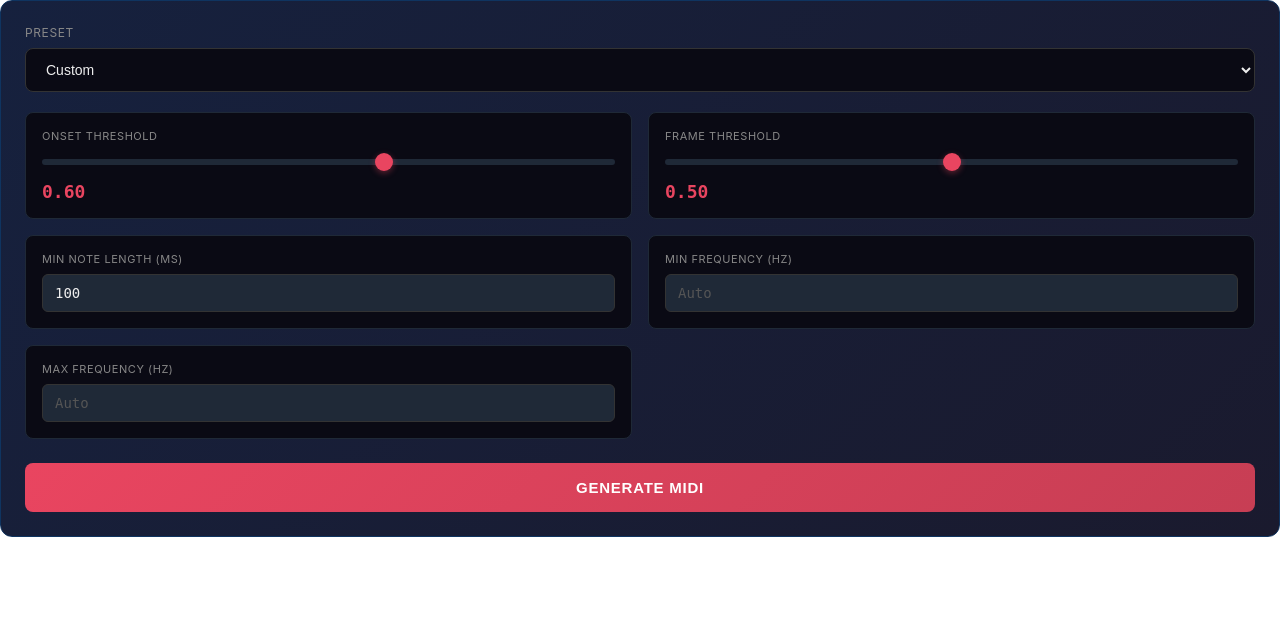
Test case: MIDIGenerator › should handle API errors
Click the button "Generate MIDI": (640, 488) [25,463,1255,512]
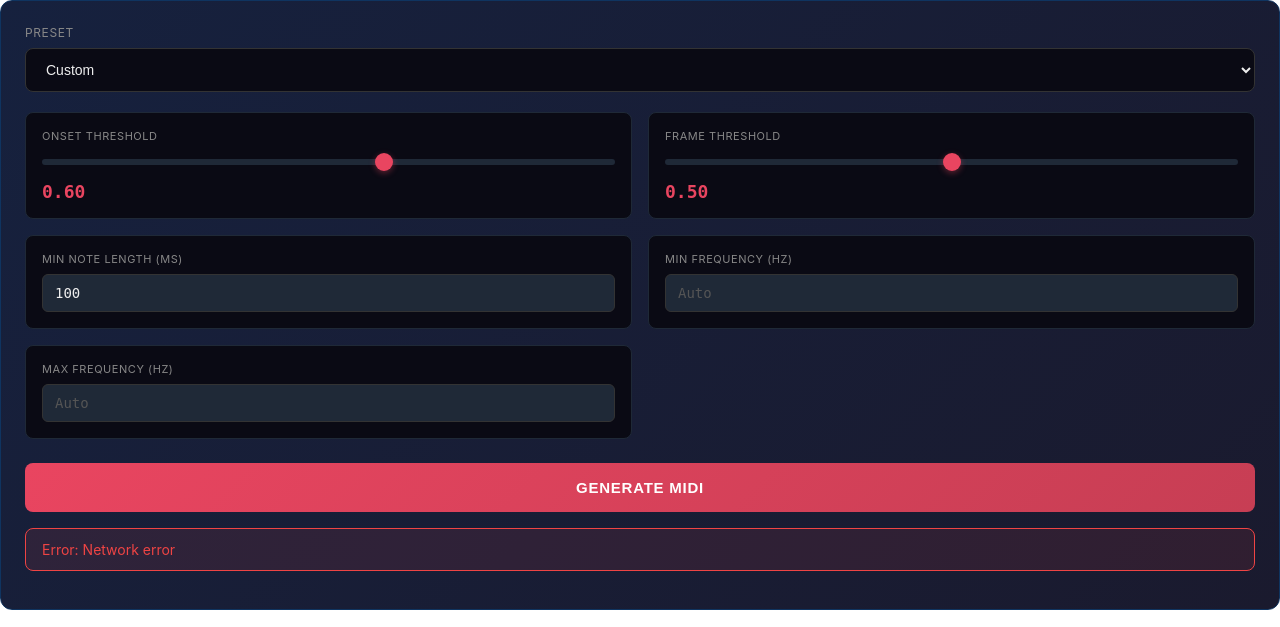
Expected: the text "Error: Network error" is shown, [25,528,1255,571]
